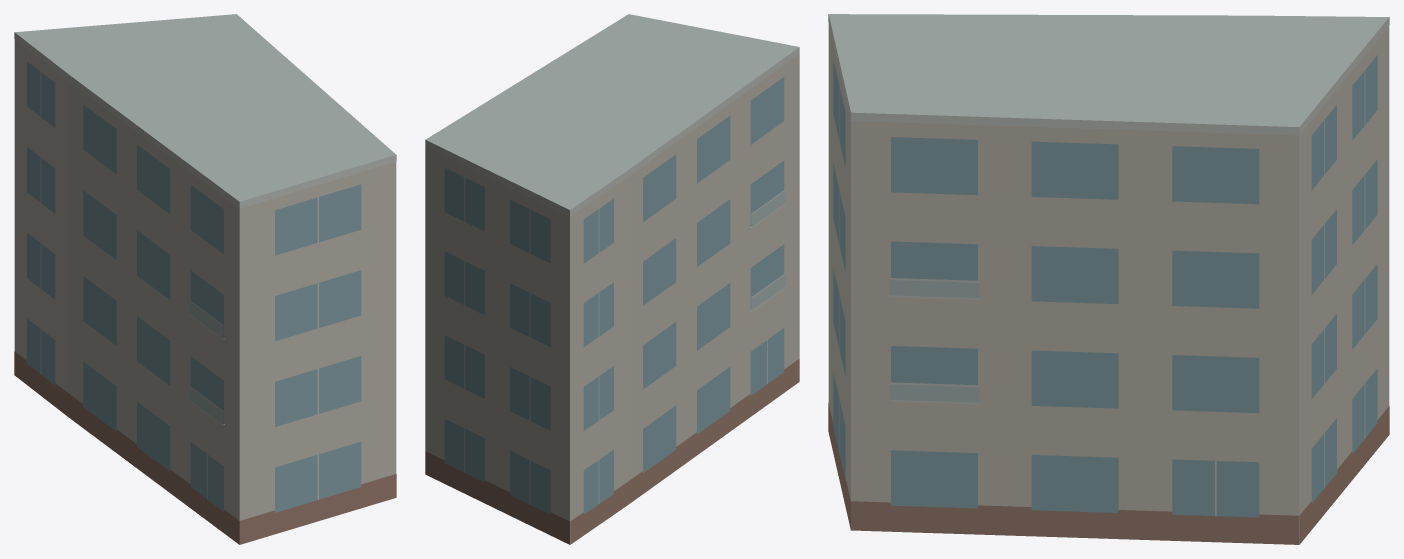
File: survey-upis-33030135.glb
3 renders of one model, left to right at view 1: azimuth 30°, elevation 25°; view 2: azimuth 150°, elevation 25°; view 3: azimuth 270°, elevation 25°, orthographic. The views are drawn at different scales.
Visible parts, largest first — view 1: survey-upis-33030135.tmp; view 2: survey-upis-33030135.tmp; view 3: survey-upis-33030135.tmp.
Part boxes in pixels (x1,y1,x2,y2): survey-upis-33030135.tmp: (14,14,396,544); survey-upis-33030135.tmp: (425,14,799,544); survey-upis-33030135.tmp: (828,14,1389,544).
Size of the model in its own units: 7.12 by 12.2 by 14.85.
